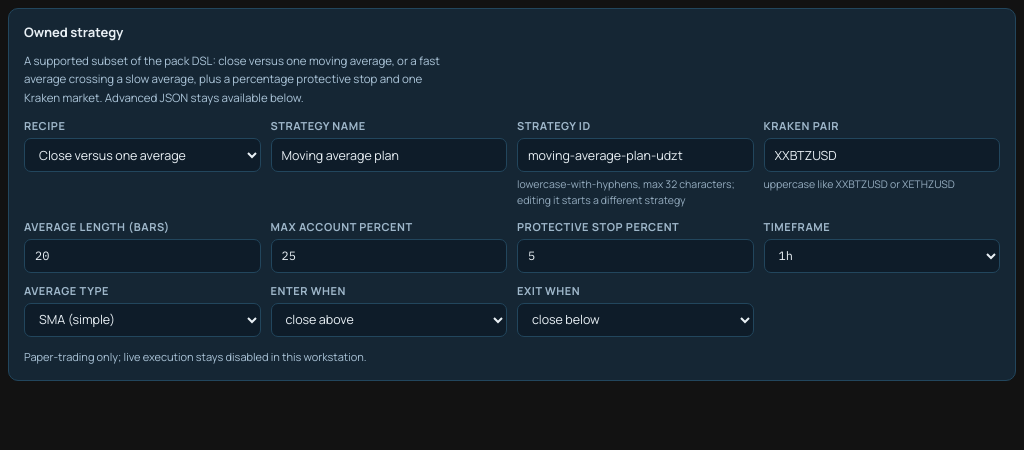
Test: OwnedStrategyForm signal slice — scoped wrapper › surfaces the existing problems testid and verbatim refusal text inside the scope
Replace the text in the field labelled "Average length (bars)" with "1" at (142, 256), box [24,239,260,273]
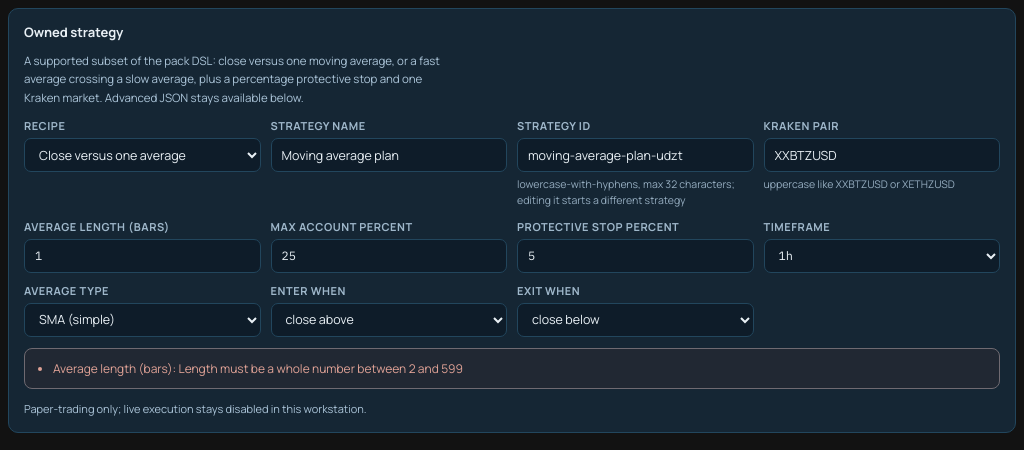
Now the list with test id "owned-strategy-form-problems" reads "Average length (bars): Length must be a whole number between 2 and 599", box [53,360,463,377]
